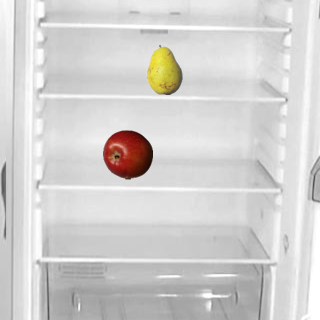Apple Braeburn: (102, 129, 152, 179)
Pear Monster: (139, 44, 189, 94)
